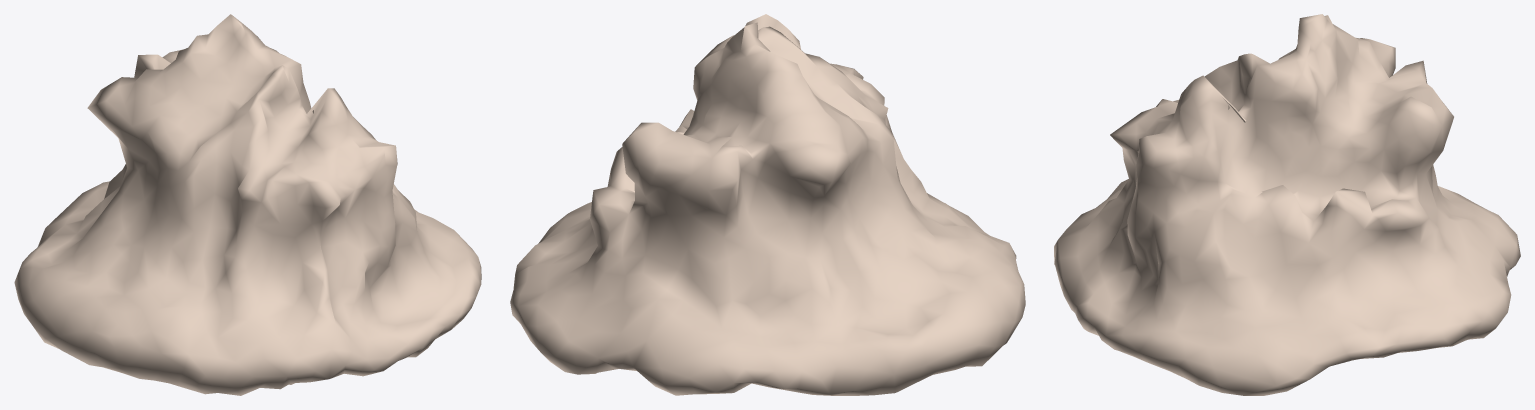
The model's file is Rock_09.fbx.
3 views of the same model, side by side, from view 1: azimuth 30°, elevation 25°; view 2: azimuth 150°, elevation 25°; view 3: azimuth 270°, elevation 25° (orthographic). The views are drawn at different scales.
Visible parts, largest first — view 1: Rock_09; view 2: Rock_09; view 3: Rock_09.
Part boxes in pixels (box(x1,y1,x2,y2)): Rock_09: box(14, 14, 481, 395); Rock_09: box(510, 14, 1025, 395); Rock_09: box(1054, 14, 1520, 395).
Size of the model in its own units: 1065 by 686 by 1002.
